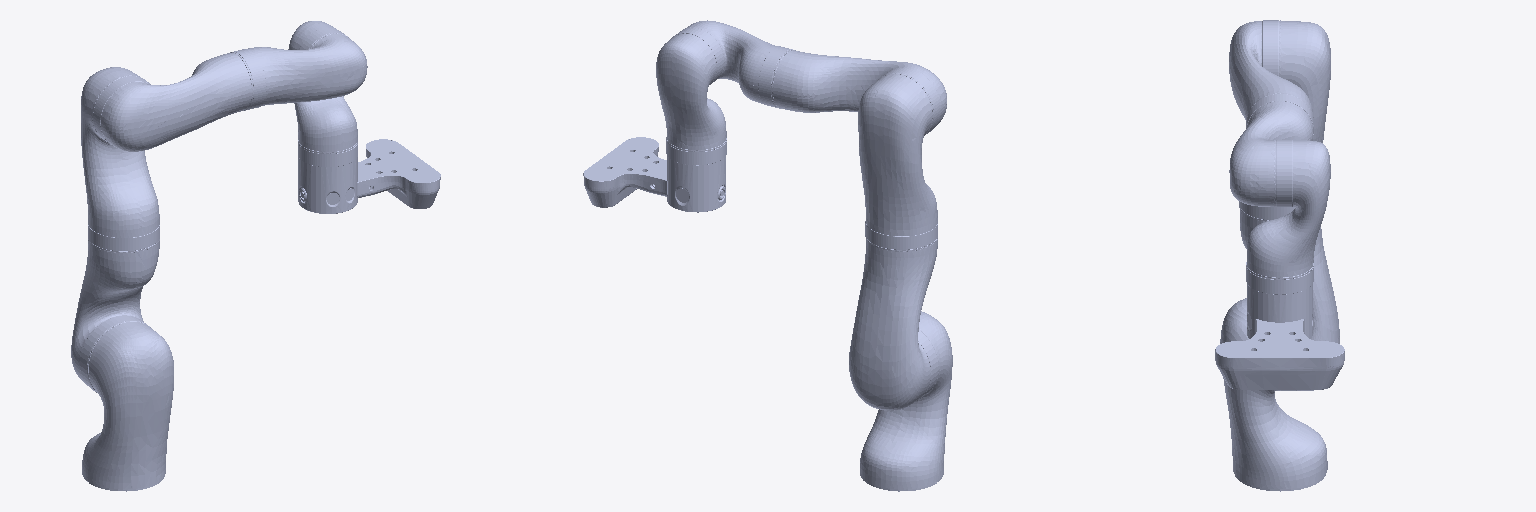
robot.urdf — tl_tcb605v:
<?xml version="1.0" encoding="utf-8"?>
<!-- This URDF was automatically created by SolidWorks to URDF Exporter! Originally created by Stephen Brawner (brawner@gmail.com) 
     Commit Version: 1.6.0-4-g7f85cfe  Build Version: 1.6.7995.38578
     For more information, please see http://wiki.ros.org/sw_urdf_exporter -->
<robot
  name="tl_tcb605v">
  <link
    name="link0">
    <inertial>
      <origin
        xyz="0.000708831292588157 -8.61075349148921E-05 0.0437241147546661"
        rpy="0 0 0" />
      <mass
        value="0.184997778677383" />
      <inertia
        ixx="0.000408655880224899"
        ixy="-6.47925326858496E-07"
        ixz="3.45905947380277E-06"
        iyy="0.000402045698173365"
        iyz="-4.42033155327606E-07"
        izz="0.000394929591269372" />
    </inertial>
    <visual>
      <origin
        xyz="0 0 0"
        rpy="0 0 0" />
      <geometry>
        <mesh
          filename="package://tl_description/meshes/tl_tcb605v/link0.STL" />
      </geometry>
      <material
        name="">
        <color
          rgba="0.792156862745098 0.819607843137255 0.933333333333333 1" />
      </material>
    </visual>
    <collision>
      <origin
        xyz="0 0 0"
        rpy="0 0 0" />
      <geometry>
        <mesh
          filename="package://tl_description/meshes/tl_tcb605v/link0.STL" />
      </geometry>
    </collision>
  </link>
  <link
    name="link1">
    <inertial>
      <origin
        xyz="-1.35769652161939E-05 -0.0147010788327374 0.0739643338500664"
        rpy="0 0 0" />
      <mass
        value="0.140770017749913" />
      <inertia
        ixx="0.000389108973190017"
        ixy="1.27518035400603E-08"
        ixz="-4.54948951869938E-08"
        iyy="0.000404550886627064"
        iyz="5.39425123502659E-05"
        izz="0.000158791304990713" />
    </inertial>
    <visual>
      <origin
        xyz="0 0 0"
        rpy="0 0 0" />
      <geometry>
        <mesh
          filename="package://tl_description/meshes/tl_tcb605v/link1.STL" />
      </geometry>
      <material
        name="">
        <color
          rgba="0.792156862745098 0.819607843137255 0.933333333333333 1" />
      </material>
    </visual>
    <collision>
      <origin
        xyz="0 0 0"
        rpy="0 0 0" />
      <geometry>
        <mesh
          filename="package://tl_description/meshes/tl_tcb605v/link1.STL" />
      </geometry>
    </collision>
  </link>
  <joint
    name="joint1"
    type="revolute">
    <origin
      xyz="0 0 0.11455"
      rpy="0 0 0" />
    <parent
      link="link0" />
    <child
      link="link1" />
    <axis
      xyz="0 0 1" />
    <limit
      lower="-3.1416"
      upper="3.1416"
      effort="0"
      velocity="0" />
  </joint>
  <link
    name="link2">
    <inertial>
      <origin
        xyz="-5.7537862876755E-05 -0.131539274194841 0.00870298347287814"
        rpy="0 0 0" />
      <mass
        value="0.239042116768656" />
      <inertia
        ixx="0.0021299104291638"
        ixy="-2.28869827722666E-06"
        ixz="-2.2794817138774E-07"
        iyy="0.000220517977261103"
        iyz="-8.89929660374651E-05"
        izz="0.00214692946329947" />
    </inertial>
    <visual>
      <origin
        xyz="0 0 0"
        rpy="0 0 0" />
      <geometry>
        <mesh
          filename="package://tl_description/meshes/tl_tcb605v/link2.STL" />
      </geometry>
      <material
        name="">
        <color
          rgba="0.792156862745098 0.819607843137255 0.933333333333333 1" />
      </material>
    </visual>
    <collision>
      <origin
        xyz="0 0 0"
        rpy="0 0 0" />
      <geometry>
        <mesh
          filename="package://tl_description/meshes/tl_tcb605v/link2.STL" />
      </geometry>
    </collision>
  </link>
  <joint
    name="joint2"
    type="revolute">
    <origin
      xyz="0 0.00715000000100773 0.12724999999951"
      rpy="-1.5707963267949 0 0" />
    <parent
      link="link1" />
    <child
      link="link2" />
    <axis
      xyz="0 0 -1" />
    <limit
      lower="-2.4086"
      upper="2.4086"
      effort="0"
      velocity="0" />
  </joint>
  <link
    name="link3">
    <inertial>
      <origin
        xyz="-6.46545079789827E-06 0.0577535239528669 0.00878471471675768"
        rpy="0 0 0" />
      <mass
        value="0.0945260086054844" />
      <inertia
        ixx="0.000237785840924485"
        ixy="5.31249473976759E-08"
        ixz="-1.09590834213125E-09"
        iyy="6.42616332899082E-05"
        iyz="4.60316398888432E-05"
        izz="0.000240859287939245" />
    </inertial>
    <visual>
      <origin
        xyz="0 0 0"
        rpy="0 0 0" />
      <geometry>
        <mesh
          filename="package://tl_description/meshes/tl_tcb605v/link3.STL" />
      </geometry>
      <material
        name="">
        <color
          rgba="0.792156862745098 0.819607843137255 0.933333333333333 1" />
      </material>
    </visual>
    <collision>
      <origin
        xyz="0 0 0"
        rpy="0 0 0" />
      <geometry>
        <mesh
          filename="package://tl_description/meshes/tl_tcb605v/link3.STL" />
      </geometry>
    </collision>
  </link>
  <joint
    name="joint3"
    type="revolute">
    <origin
      xyz="0 -0.2698 -0.0155"
      rpy="-3.1416 0 1.5708" />
    <parent
      link="link2" />
    <child
      link="link3" />
    <axis
      xyz="0 0 1" />
    <limit
      lower="-0.9250"
      upper="4.0666"
      effort="0"
      velocity="0" />
  </joint>
  <link
    name="link4">
    <inertial>
      <origin
        xyz="1.01576500505227E-05 -0.0129940460614477 0.0552922926184554"
        rpy="0 0 0" />
      <mass
        value="0.072084869364171" />
      <inertia
        ixx="0.000105414971530801"
        ixy="1.21042675683708E-08"
        ixz="2.50153809076436E-09"
        iyy="0.000106134759360343"
        iyz="1.86457228512842E-05"
        izz="4.55695497863123E-05" />
    </inertial>
    <visual>
      <origin
        xyz="0 0 0"
        rpy="0 0 0" />
      <geometry>
        <mesh
          filename="package://tl_description/meshes/tl_tcb605v/link4.STL" />
      </geometry>
      <material
        name="">
        <color
          rgba="0.792156862745098 0.819607843137255 0.933333333333333 1" />
      </material>
    </visual>
    <collision>
      <origin
        xyz="0 0 0"
        rpy="0 0 0" />
      <geometry>
        <mesh
          filename="package://tl_description/meshes/tl_tcb605v/link4.STL" />
      </geometry>
    </collision>
  </link>
  <joint
    name="joint4"
    type="revolute">
    <origin
      xyz="0 0.13665 -0.00835"
      rpy="-1.5708 0 0" />
    <parent
      link="link3" />
    <child
      link="link4" />
    <axis
      xyz="0 0 1" />
    <limit
      lower="-3.1416"
      upper="3.1416"
      effort="0"
      velocity="0" />
  </joint>
  <link
    name="link5">
    <inertial>
      <origin
        xyz="-1.08534955866619E-06 -0.0369306850236364 0.0120181275206643"
        rpy="0 0 0" />
      <mass
        value="0.0641129578489188" />
      <inertia
        ixx="9.88028582567006E-05"
        ixy="7.57204545954831E-09"
        ixz="-3.11303231936719E-09"
        iyy="4.10033820774101E-05"
        iyz="-2.1091488850102E-05"
        izz="9.73769579139644E-05" />
    </inertial>
    <visual>
      <origin
        xyz="0 0 0"
        rpy="0 0 0" />
      <geometry>
        <mesh
          filename="package://tl_description/meshes/tl_tcb605v/link5.STL" />
      </geometry>
      <material
        name="">
        <color
          rgba="0.792156862745098 0.819607843137255 0.933333333333333 1" />
      </material>
    </visual>
    <collision>
      <origin
        xyz="0 0 0"
        rpy="0 0 0" />
      <geometry>
        <mesh
          filename="package://tl_description/meshes/tl_tcb605v/link5.STL" />
      </geometry>
    </collision>
  </link>
  <joint
    name="joint5"
    type="revolute">
    <origin
      xyz="0 0.00365 0.09315"
      rpy="-1.5708 1.5708 0" />
    <parent
      link="link4" />
    <child
      link="link5" />
    <axis
      xyz="0 0 1" />
    <limit
      lower="-3.8921"
      upper="0.7505"
      effort="0"
      velocity="0" />
  </joint>
  <link
    name="link6">
    <inertial>
      <origin
        xyz="-0.0487951055563652 0.00032912922916345 0.0437901055668729"
        rpy="0 0 0" />
      <mass
        value="0.149593269924095" />
      <inertia
        ixx="0.00010704282301902"
        ixy="2.27099970748653E-06"
        ixz="4.34865324744402E-05"
        iyy="0.000281195905353338"
        iyz="-7.74496411368076E-08"
        izz="0.000328750285958604" />
    </inertial>
    <visual>
      <origin
        xyz="0 0 0"
        rpy="0 0 0" />
      <geometry>
        <mesh
          filename="package://tl_description/meshes/tl_tcb605v/link6.STL" />
      </geometry>
      <material
        name="">
        <color
          rgba="0.792156862745098 0.819607843137255 0.933333333333333 1" />
      </material>
    </visual>
    <collision>
      <origin
        xyz="0 0 0"
        rpy="0 0 0" />
      <geometry>
        <mesh
          filename="package://tl_description/meshes/tl_tcb605v/link6.STL" />
      </geometry>
    </collision>
  </link>
  <joint
    name="joint6"
    type="revolute">
    <origin
      xyz="0 -0.09515 -0.00385"
      rpy="1.5708 0 0" />
    <parent
      link="link5" />
    <child
      link="link6" />
    <axis
      xyz="0 0 1" />
    <limit
      lower="-3.1416"
      upper="3.1416"
      effort="0"
      velocity="0" />
  </joint>
  <link
    name="camera_link">
    <inertial>
      <origin
        xyz="0.012484383058567 -0.00117305433883021 0.00587064848980612"
        rpy="0 0 0" />
      <mass
        value="0.0471699262917731" />
      <inertia
        ixx="2.89730801437387E-05"
        ixy="5.87599370865301E-10"
        ixz="-4.33331040547748E-09"
        iyy="4.39204841349526E-06"
        iyz="-4.20815380467812E-07"
        izz="2.87280758814768E-05" />
    </inertial>
    <visual>
      <origin
        xyz="0 0 0"
        rpy="0 0 0" />
      <geometry>
        <mesh
          filename="package://tl_description/meshes/tl_tcb605v/camera_link.STL" />
      </geometry>
      <material
        name="">
        <color
          rgba="0.792156862745098 0.819607843137255 0.933333333333333 1" />
      </material>
    </visual>
    <collision>
      <origin
        xyz="0 0 0"
        rpy="0 0 0" />
      <geometry>
        <mesh
          filename="package://tl_description/meshes/tl_tcb605v/camera_link.STL" />
      </geometry>
    </collision>
  </link>
  <joint
    name="camera_joint"
    type="fixed">
    <origin
      xyz="-0.072 0 0.047131"
      rpy="0 0 -3.1416" />
    <parent
      link="link6" />
    <child
      link="camera_link" />
    <axis
      xyz="0 0 0" />
  </joint>
</robot>

--- Facts derived from the render (not from the file) ---
3 views of the same robot in one strip: view 1: azimuth 30°, elevation 25°; view 2: azimuth 150°, elevation 25°; view 3: azimuth 270°, elevation 25° (orthographic).
Model tl_tcb605v with 8 links and 7 joints (6 revolute, 1 fixed), rooted at link0, posed all joints at 0.
Links seen in each view (by area): view 1: link2, link1, link3, link6, link4, link5; view 2: link2, link1, link5, link3, link6, link4; view 3: link6, link1, link2, link5, link4, link3.
Link boxes in pixels (x1,y1,x2,y2): link2: [71, 67, 159, 385]; link1: [80, 315, 173, 491]; link3: [101, 49, 266, 151]; link6: [298, 139, 440, 213]; link4: [248, 28, 367, 105]; link5: [288, 21, 357, 166]; link2: [849, 68, 940, 410]; link1: [860, 311, 952, 491]; link5: [656, 33, 726, 164]; link3: [758, 46, 946, 124]; link6: [583, 137, 725, 212]; link4: [672, 20, 777, 103]; link6: [1215, 284, 1344, 389]; link1: [1220, 298, 1327, 491]; link2: [1239, 20, 1339, 390]; link5: [1246, 140, 1330, 294]; link4: [1229, 101, 1313, 206]; link3: [1229, 21, 1313, 136].
Size in the robot's own frame: 0.3732 by 0.112 by 0.4278 metres.
Meshes: 8 distinct files referenced, 7 mesh visuals loaded (7 binary STL); not drawn: 1 (reference not matched to a file when rendering).
